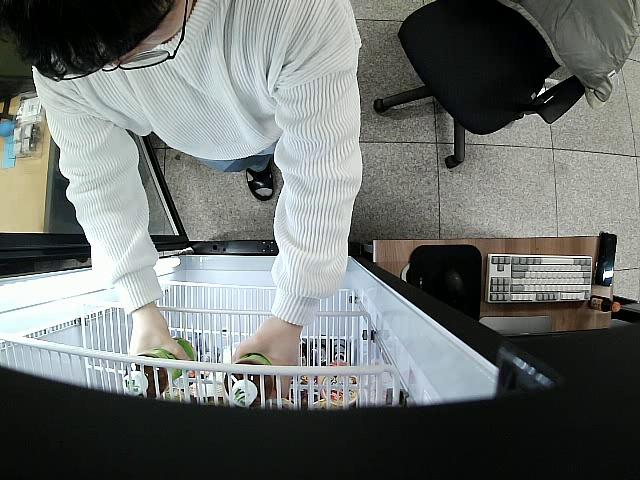00_hand: (233, 323, 300, 402), (127, 315, 191, 363)
19_17cha: (123, 337, 195, 399), (225, 353, 275, 408)
